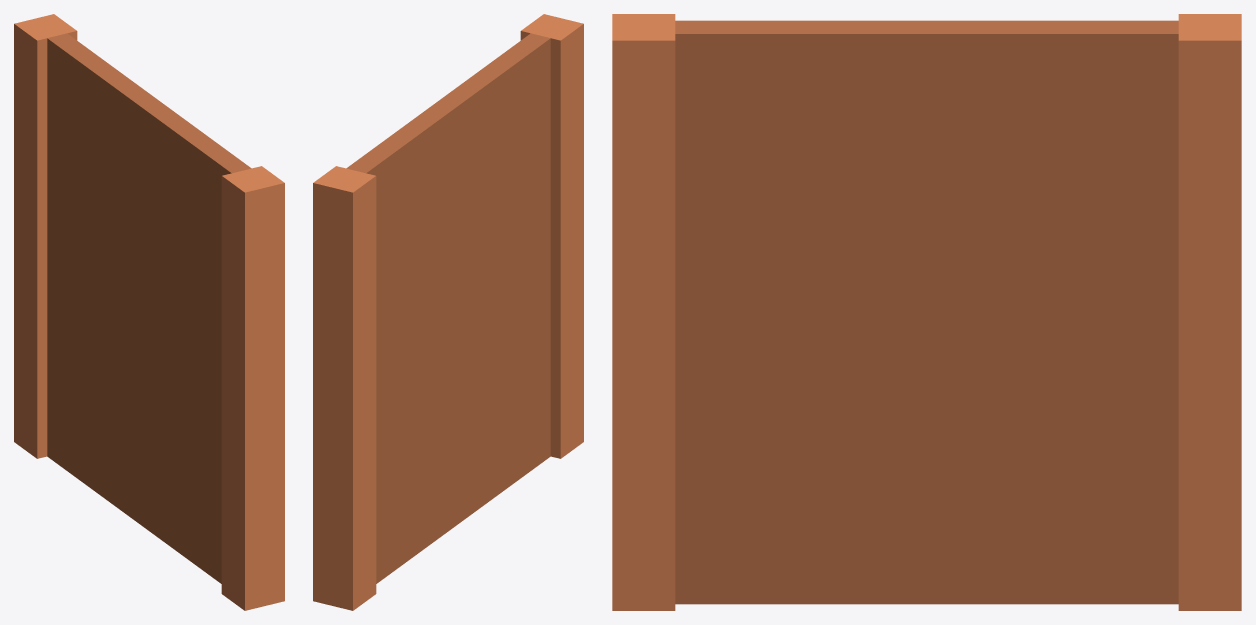
Rendered from wallWood.obj.
The picture shows the model from 3 angles, left to right: view 1: azimuth 30°, elevation 25°; view 2: azimuth 150°, elevation 25°; view 3: azimuth 270°, elevation 25°; orthographic projection. The views are drawn at different scales.
Visible parts, largest first — view 1: wallWood; view 2: wallWood; view 3: wallWood.
Part boxes in pixels (bbox=[...]): wallWood: bbox=[14, 14, 284, 610]; wallWood: bbox=[313, 14, 583, 610]; wallWood: bbox=[612, 14, 1241, 610].
Size of the model in its own units: 0.1 by 1 by 1.
